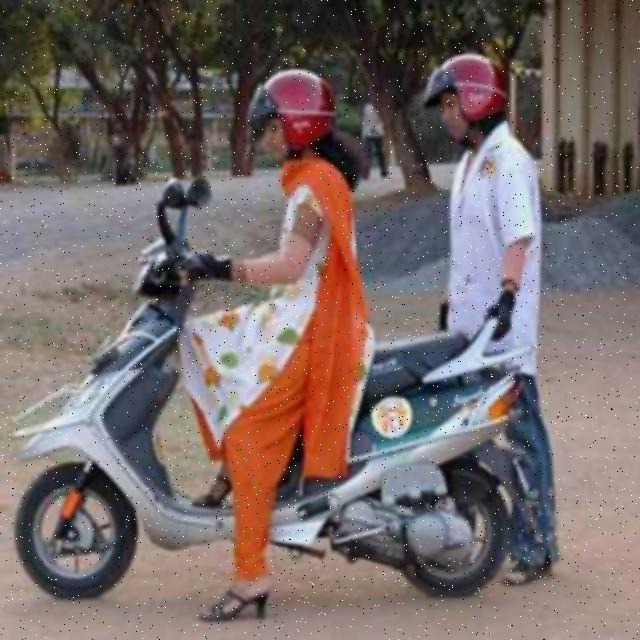not_ride_motorcycle: (400, 39, 568, 586)
not_triplets: (11, 47, 433, 609)
with-helmet: (239, 61, 344, 175), (413, 49, 518, 155)
